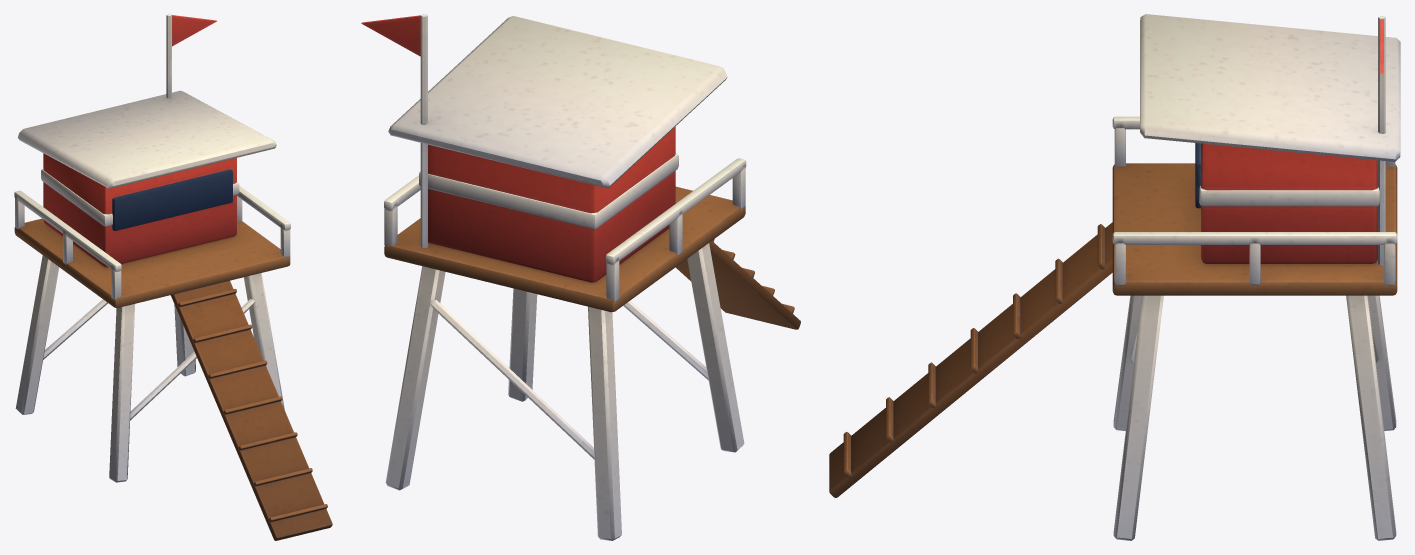
Rendered from Stage_Ocean_LifeguardTower.glb.
3 views of the same model, side by side, from view 1: azimuth 30°, elevation 25°; view 2: azimuth 150°, elevation 25°; view 3: azimuth 270°, elevation 25° (orthographic). The views are drawn at different scales.
Parts seen in each view (by area): view 1: Stage_Ocean_LifeguardTower; view 2: Stage_Ocean_LifeguardTower; view 3: Stage_Ocean_LifeguardTower.
Boxes of the visible parts, x1=… form: Stage_Ocean_LifeguardTower: x1=14, y1=14, x2=332, y2=540; Stage_Ocean_LifeguardTower: x1=361, y1=14, x2=800, y2=540; Stage_Ocean_LifeguardTower: x1=829, y1=14, x2=1400, y2=540.
Size of the model in its own units: 8.3 by 14.6 by 14.86.
Materials: 1 (1 with a texture image).
